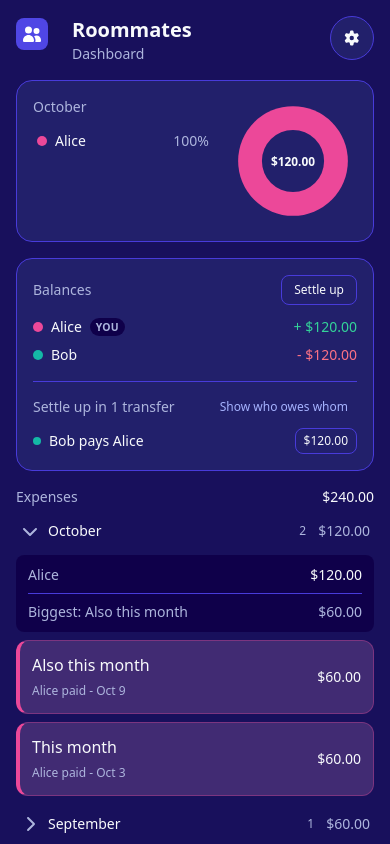
Test case: DashboardView on the main group › expenses by month › opens a month when its heading is tapped
The image size is (390, 844).
What coordinates should you click on to do the following:
click the button with test id "month-toggle" showing "September 1"
I would click on:
 (84, 824)
Its box is [16, 808, 318, 840].
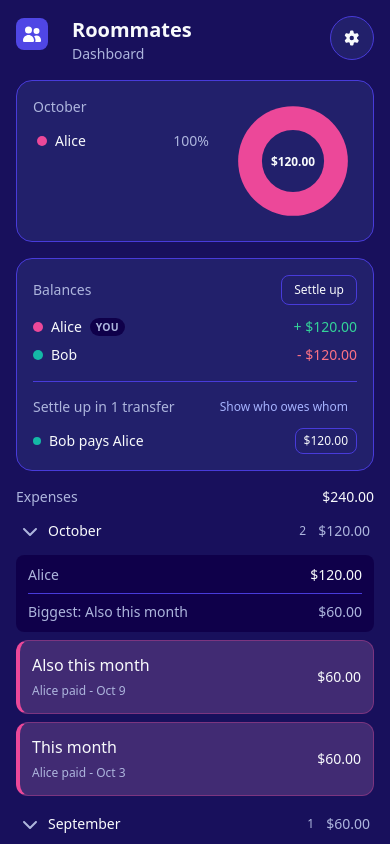
Now the number of links with test id "expense-card" is 3
